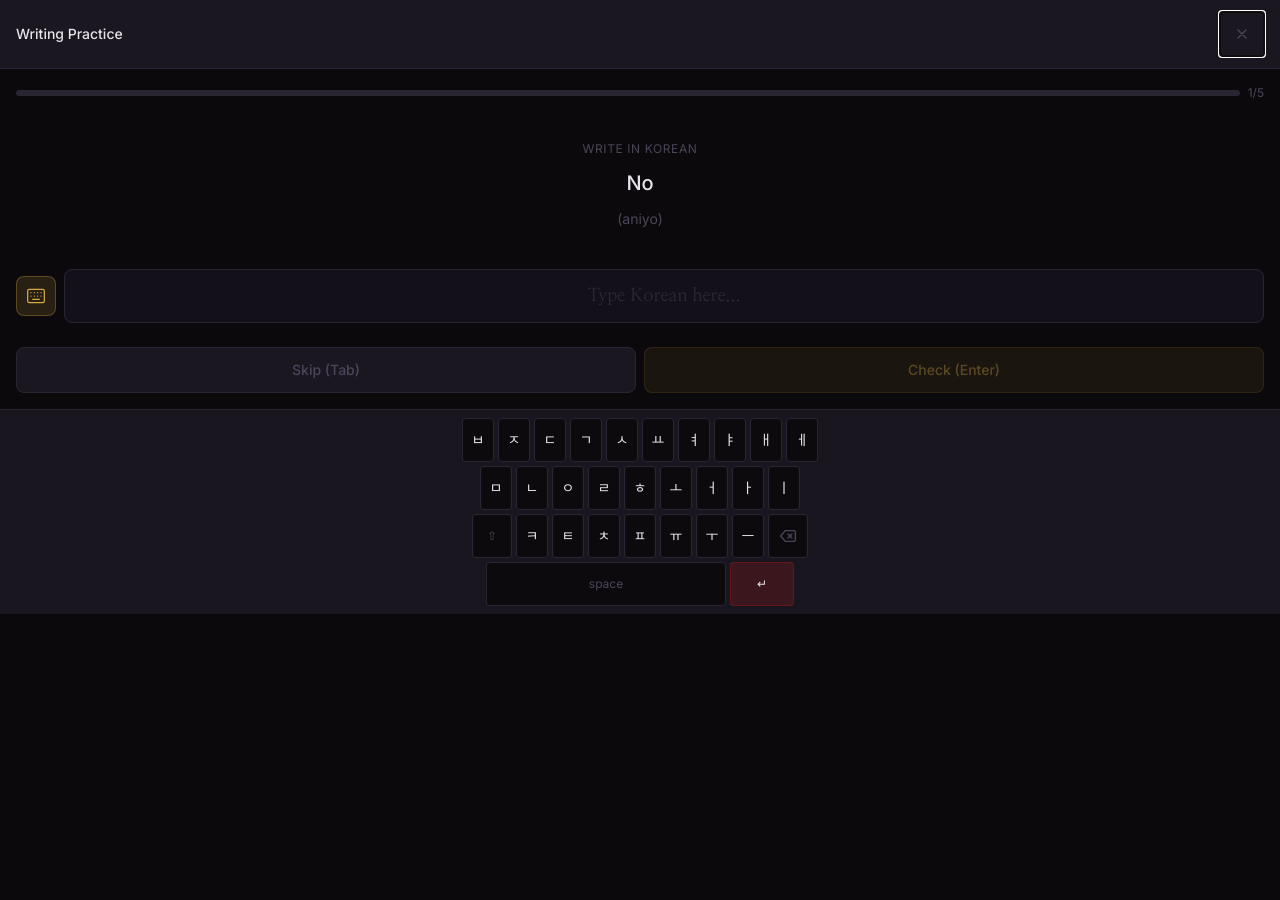
WritingMode › answer checking › shows Correct! for exact answer
The image size is (1280, 900).
Type "아니요" into the field with placeholder "Type Korean here..." at (664, 296), box [64,269,1264,323]
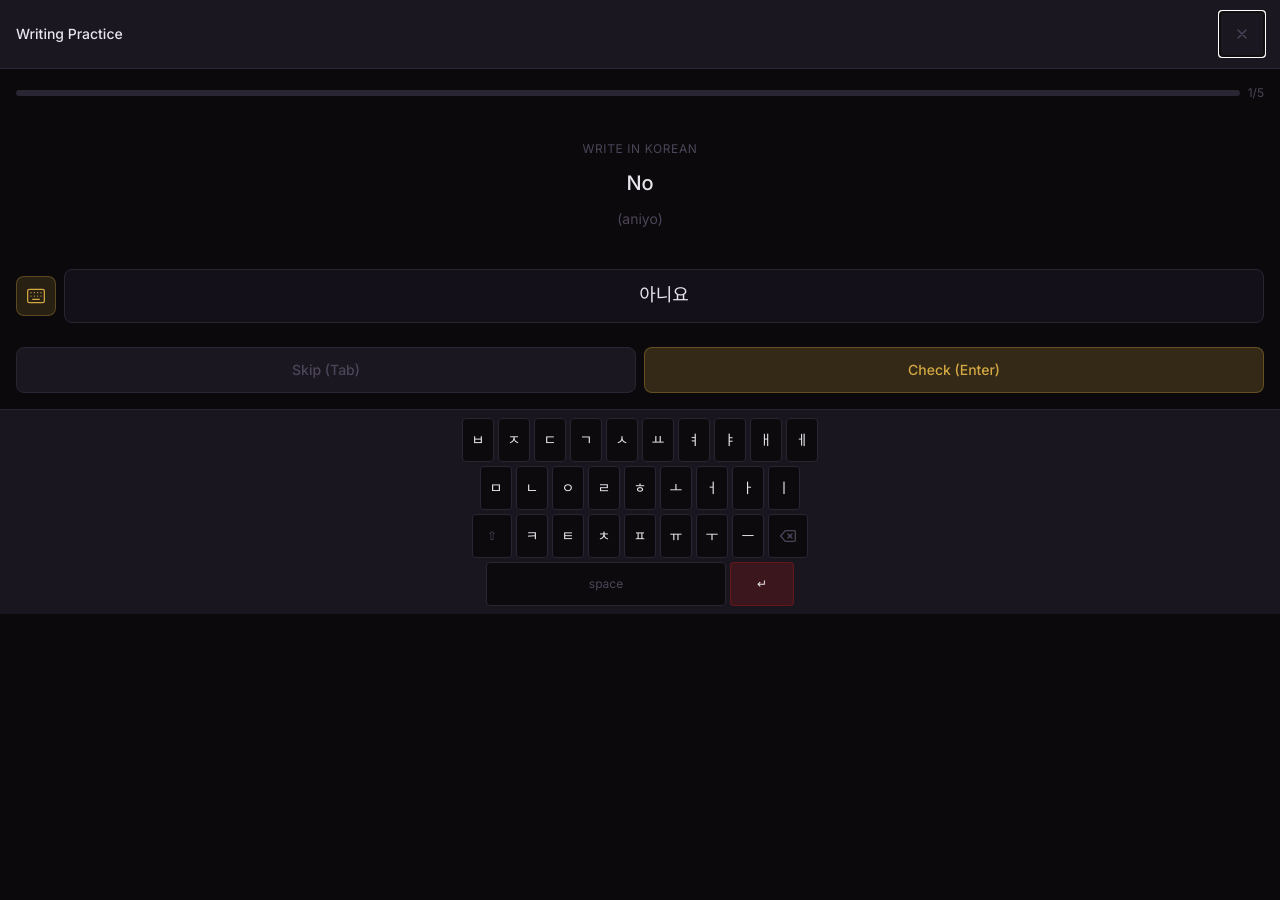
Click the button "Check (Enter)" at (954, 370), box [644,347,1264,393]
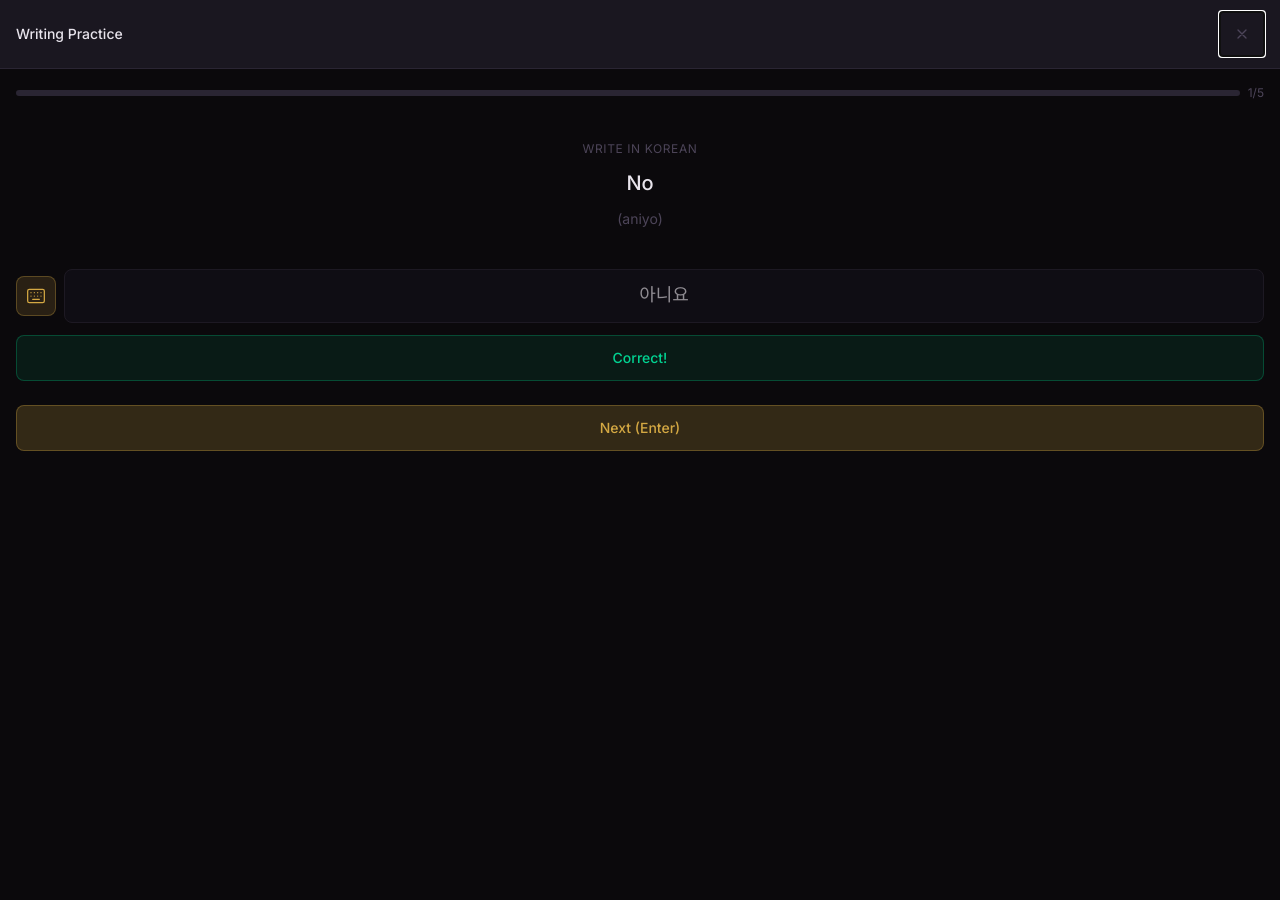
Now the text "Correct!" is shown, box [613,349,667,366]
